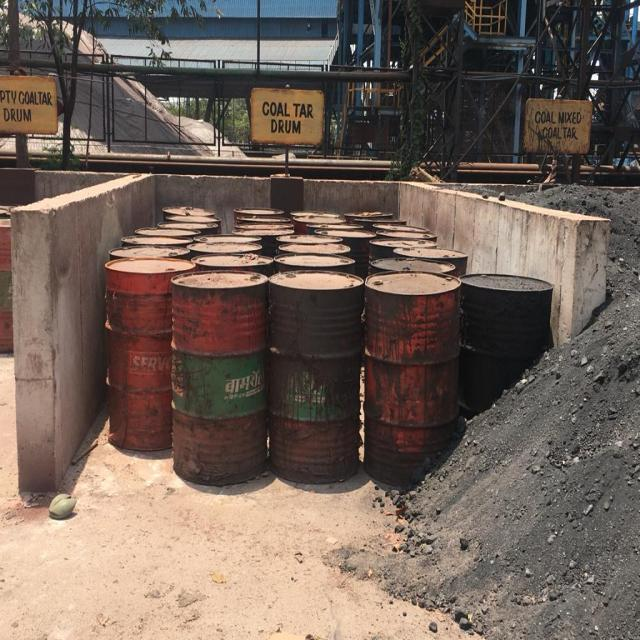dustbins: (14, 170, 608, 502)
